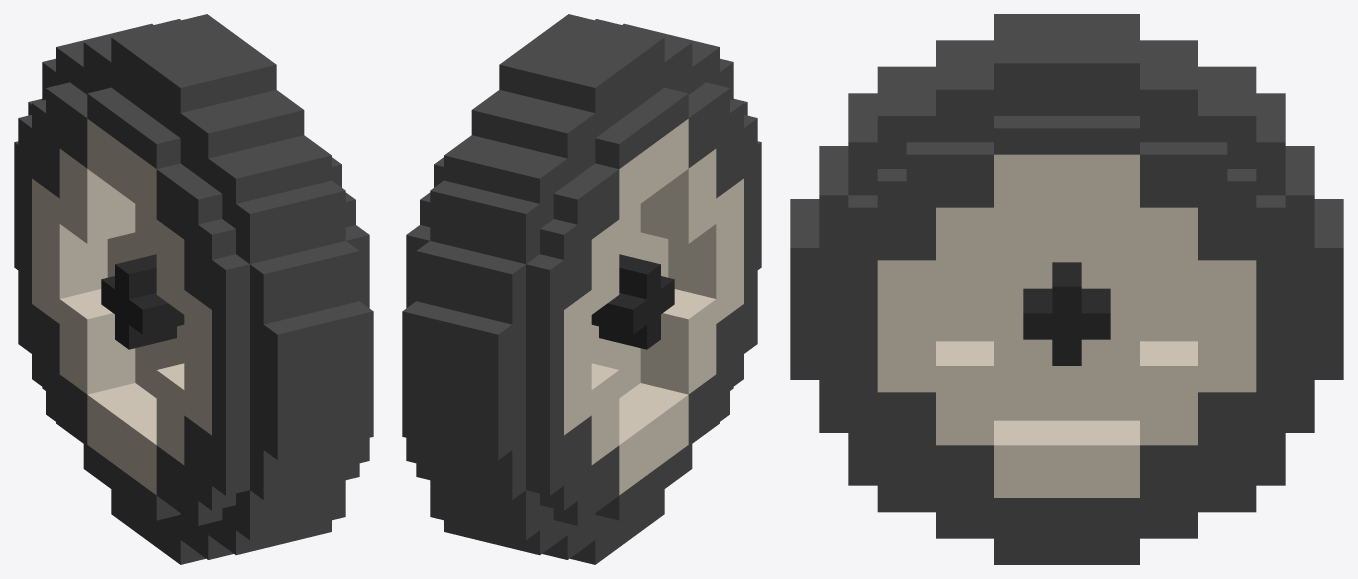
The model's file is truck-0.obj.
The picture shows the model from 3 angles, left to right: view 1: azimuth 30°, elevation 25°; view 2: azimuth 150°, elevation 25°; view 3: azimuth 270°, elevation 25°; orthographic projection. The views are drawn at different scales.
Bounding box in the file's own units: 0.6 × 1.9 × 1.9.
1 material, 1 textured.
